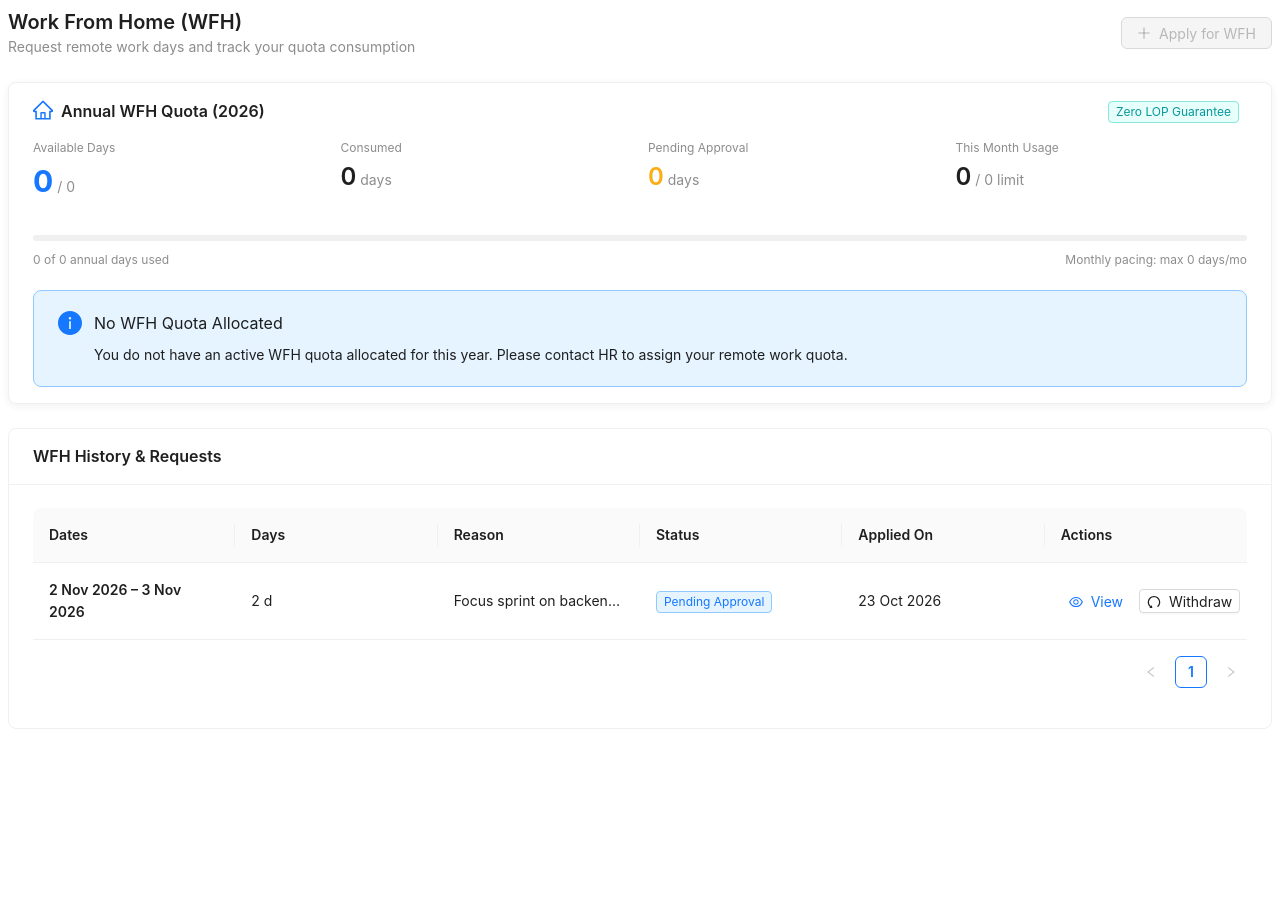
Test: MyWfh Panel (W-74) › opens view details modal and renders multi-stage approval trail for employee (D-126)
The image size is (1280, 900).
Click the button with test id "view-wfh-wfh-req-1": x=1096, y=601 top-left (1061, 589), bottom-right (1131, 613)
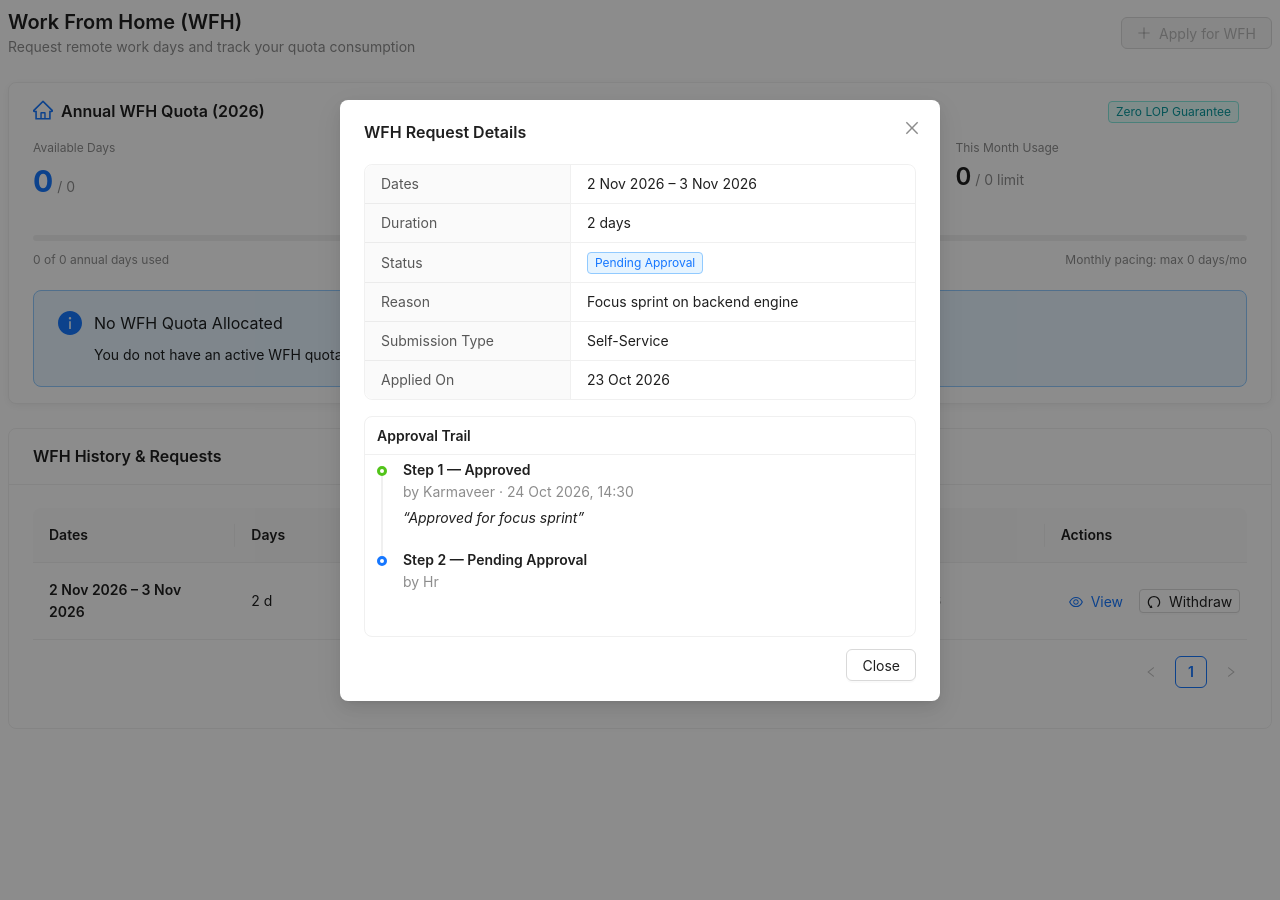
Expected: the text "Approval Trail" is shown, top-left (377, 426), bottom-right (471, 444)
Expected: the text "Step 1 — Approved" is shown, top-left (403, 461), bottom-right (531, 478)
Expected: the text "by Karmaveer · 24 Oct 2026, 14:30" is shown, top-left (403, 483), bottom-right (634, 500)
